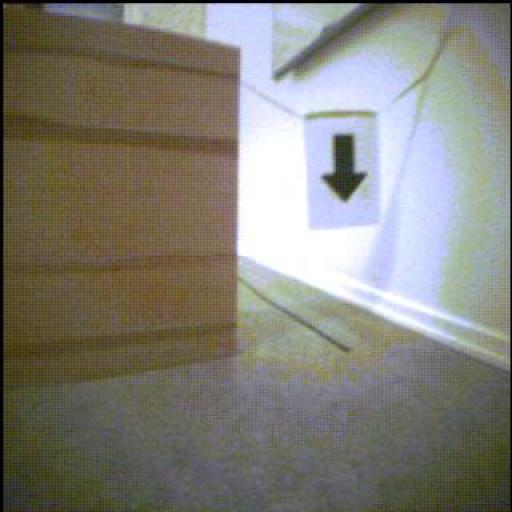arrow: (323, 136, 368, 203)
